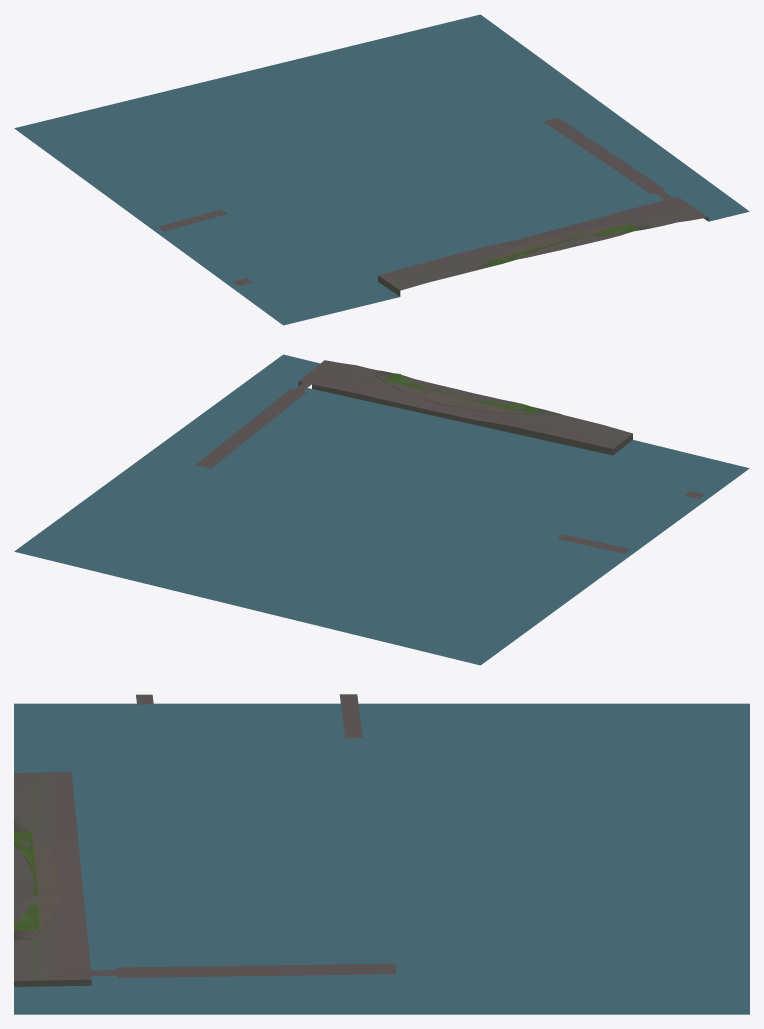
The picture shows the model from 3 angles, top to bottom: view 1: azimuth 30°, elevation 25°; view 2: azimuth 150°, elevation 25°; view 3: azimuth 270°, elevation 25°; orthographic projection. The views are drawn at different scales.
Parts seen in each view (by area): view 1: c_p05_m01; view 2: c_p05_m01; view 3: c_p05_m01.
Boxes of the visible parts, x1=… form: c_p05_m01: x1=14, y1=14, x2=749, y2=325; c_p05_m01: x1=14, y1=354, x2=749, y2=665; c_p05_m01: x1=14, y1=694, x2=749, y2=1014.
Size of the model in its own units: 128 by 2.52 by 128.
